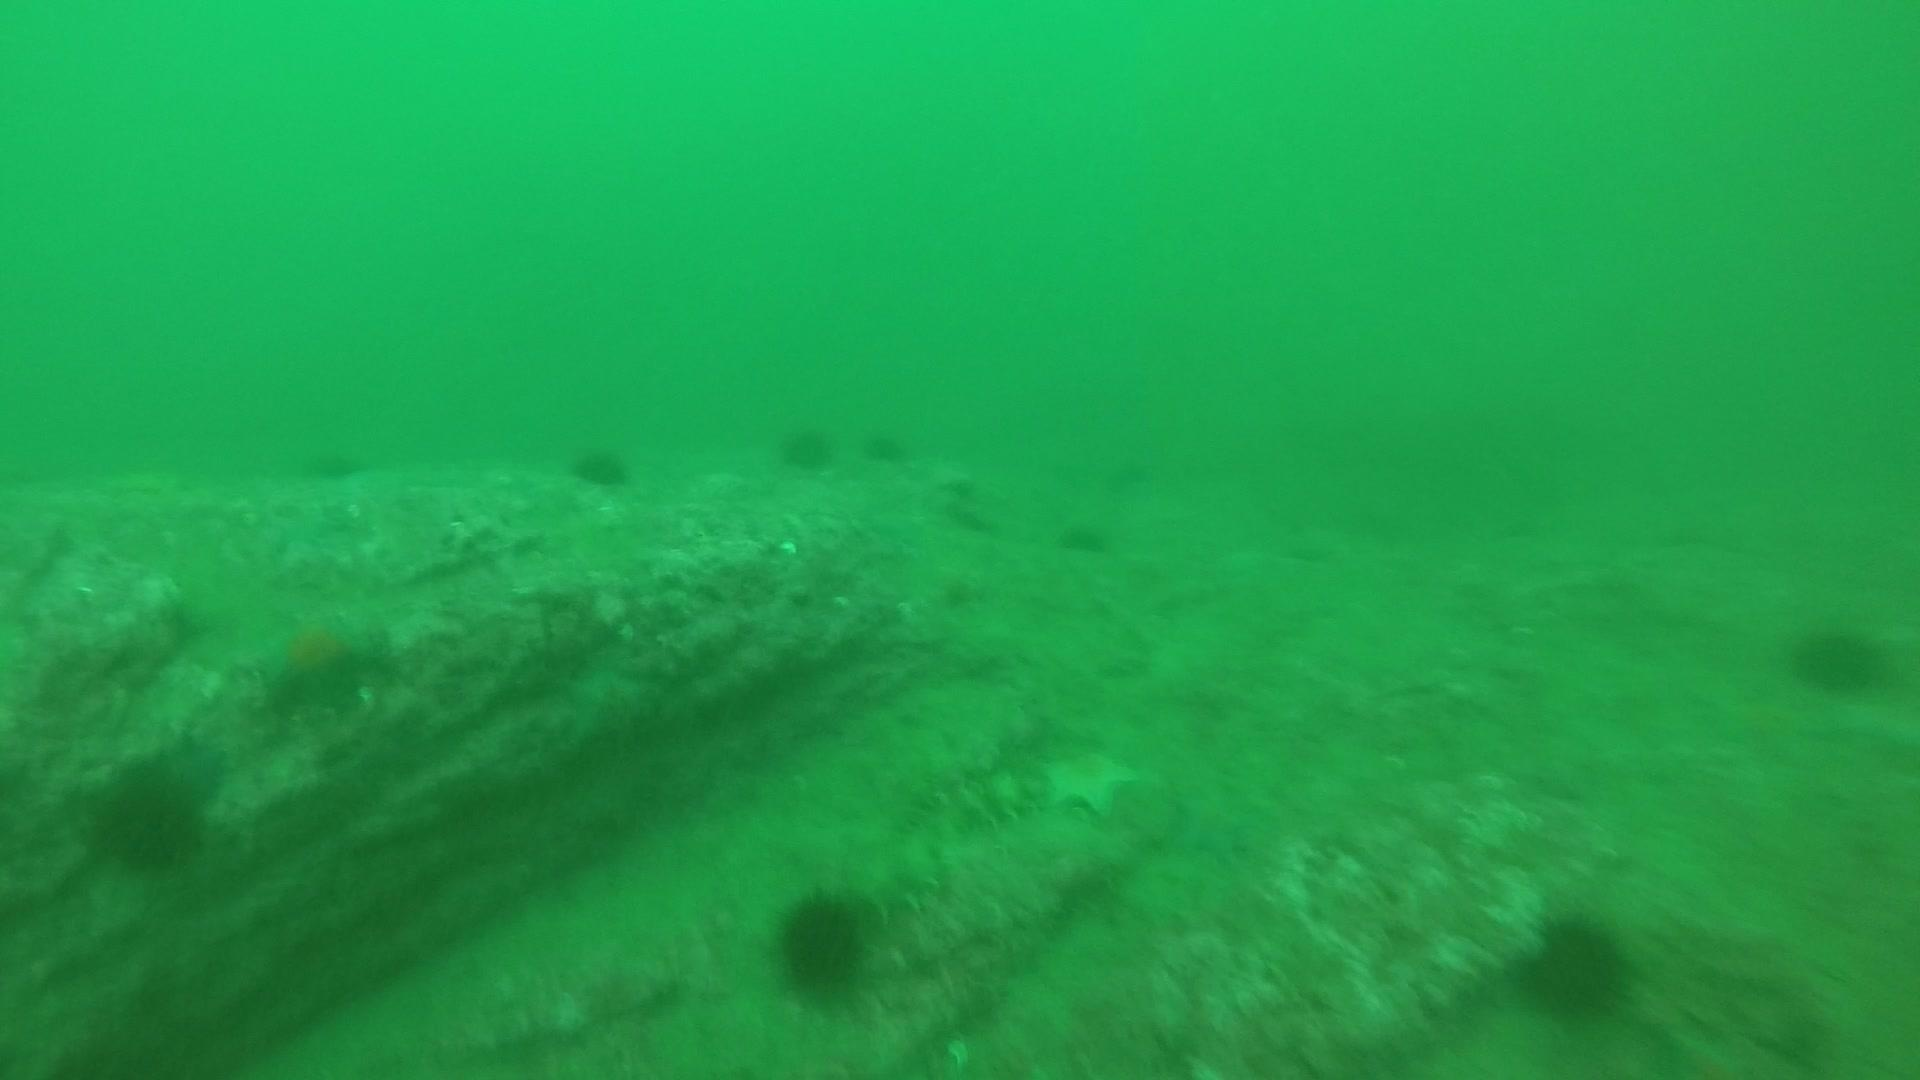echinus: (87, 756, 211, 876), (1514, 906, 1636, 1025), (767, 884, 880, 1006), (1785, 615, 1895, 700), (567, 438, 636, 493), (773, 418, 837, 476), (860, 423, 913, 468), (1055, 518, 1106, 563), (307, 442, 359, 487)
holothurian: (873, 764, 1034, 905)
starfish: (248, 605, 382, 711), (1035, 738, 1143, 824), (1168, 783, 1261, 866)
